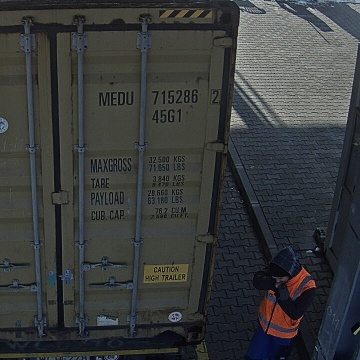serial_id: (99, 89, 219, 105)
